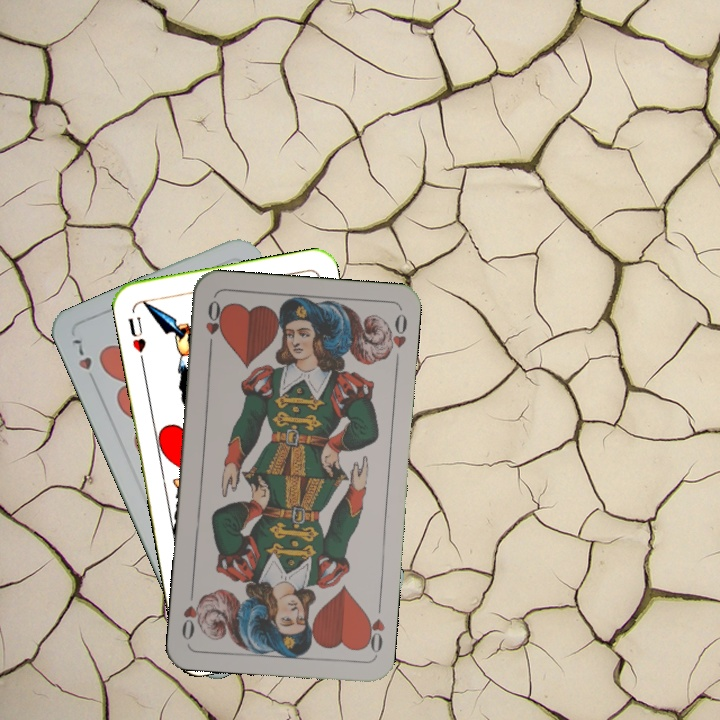H7: (68, 335, 95, 373)
HO: (360, 598, 388, 657), (201, 296, 226, 354)
HU: (124, 312, 149, 355)
